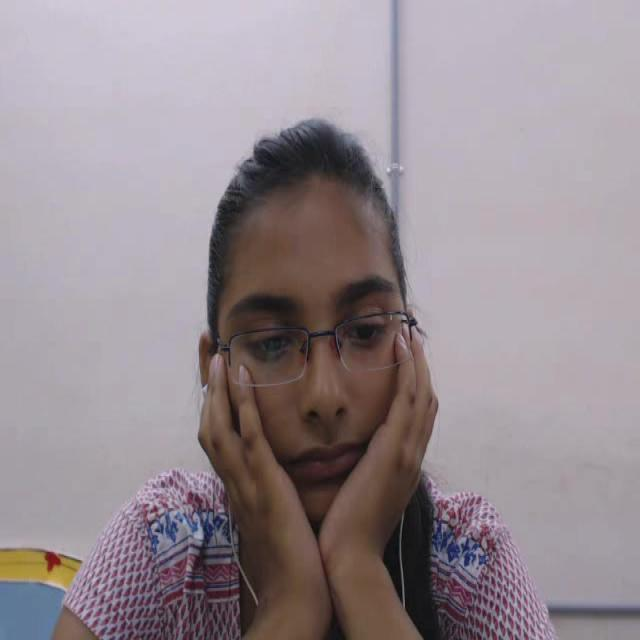Bored: (178, 99, 504, 529)
